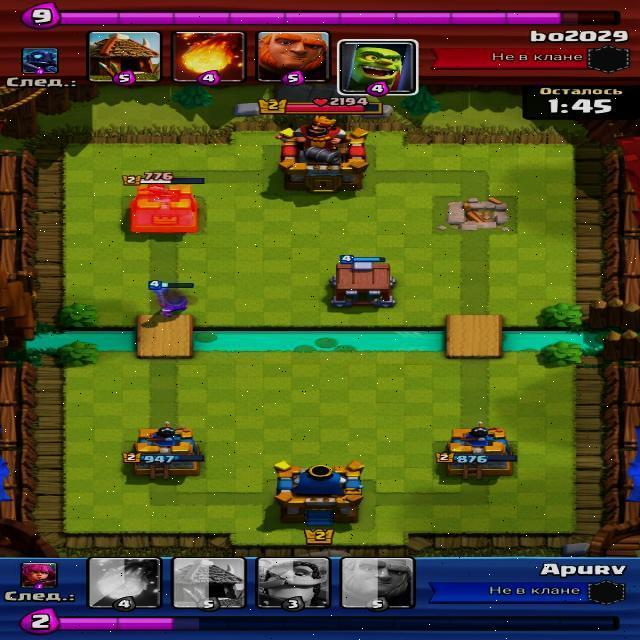EKingTower: (275, 118, 376, 196)
EnemyPrincessTower: (128, 178, 200, 233)
OGoblinCage: (329, 250, 397, 308)
OMusk: (148, 278, 194, 319)
OwnKingTower: (274, 458, 371, 525)
OwnPrincessTower: (131, 419, 203, 483), (438, 423, 516, 475)
TowerDown: (432, 192, 519, 236)
